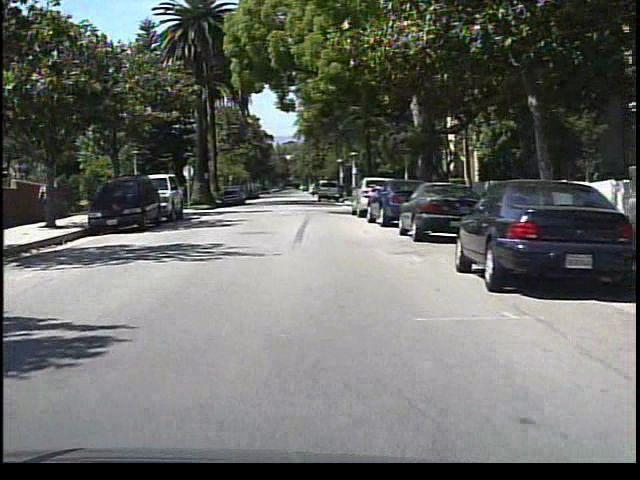person: (35, 176, 53, 225)
